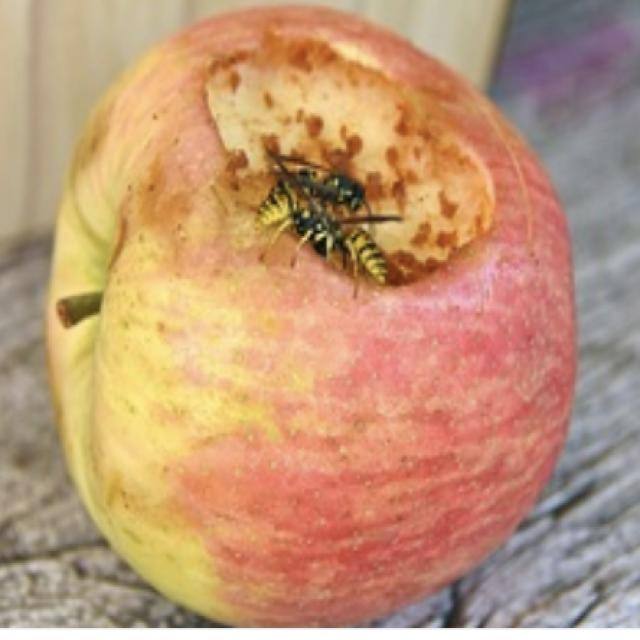Rotten: (60, 27, 585, 603)
